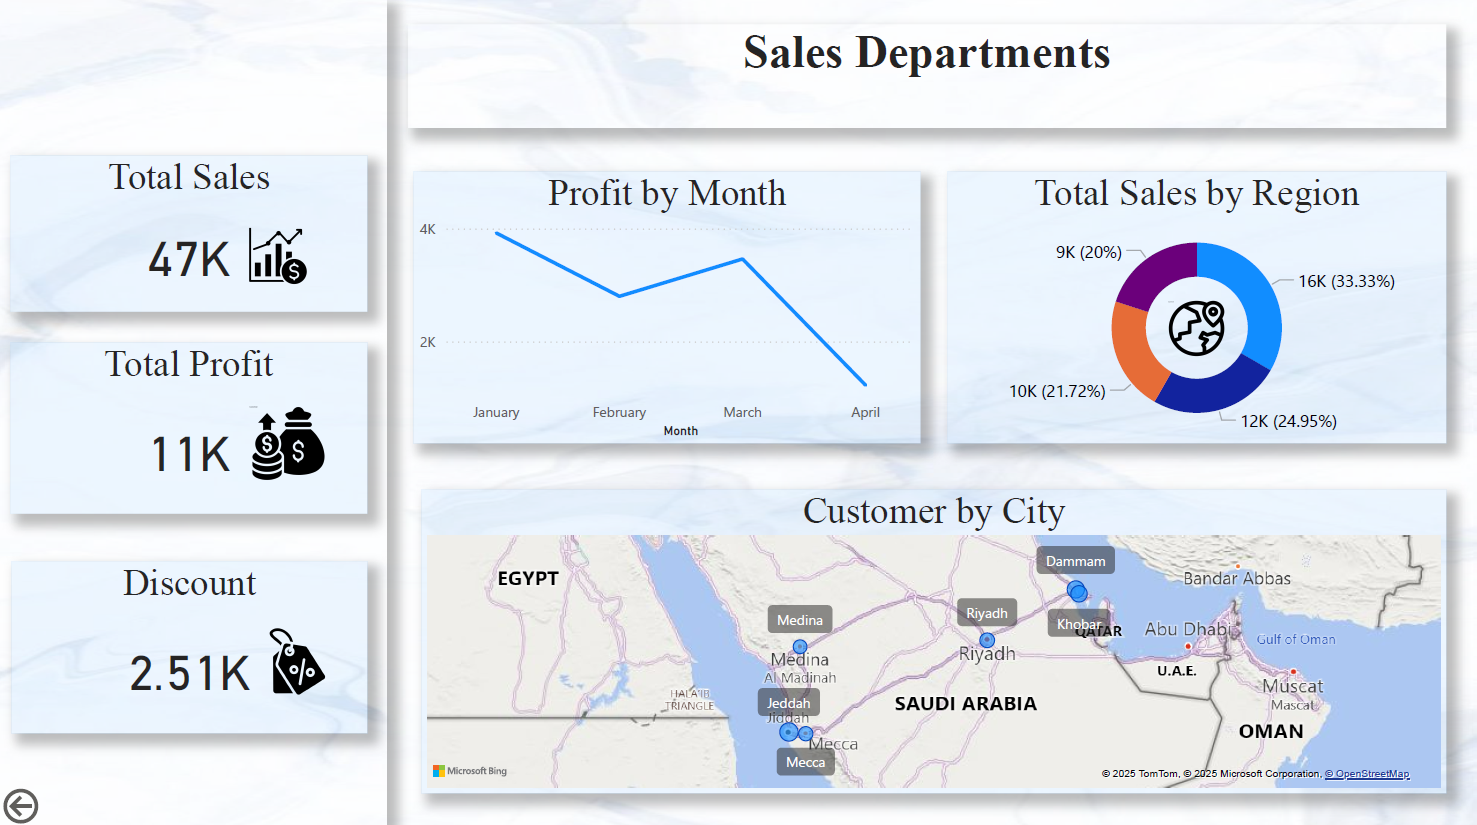

Layout of this report page (visuals, bound fields, positions):
{"tool":"powerbi","page":{"name":"Sales Departments","canvas":[1280,720],"ordinal":1},"visuals":[{"type":"shape","box":[0,0,336.6,719.7],"z":0},{"type":"card","title":"Total Sales","fields":{"Values":["Transactions.TotalSales"]},"box":[10.7,135.7,308.9,135.7],"z":1000},{"type":"image","box":[163.8,189.9,156.5,65.2],"z":2000},{"type":"card","title":"Total Profit","fields":{"Values":["Sum(Transactions.Profit)"]},"box":[10.7,298.2,308.9,148.2],"z":3000},{"type":"image","box":[196.4,344.6,171.4,80.4],"z":4000},{"type":"card","title":"Discount","fields":{"Values":["Sum(Transactions.Discount)"]},"box":[12.5,487.5,307.1,148.2],"z":5000},{"type":"image","box":[163.8,533.3,191.3,81.2],"z":6000},{"type":"lineChart","title":"Profit by Month","fields":{"Category":["Transactions.SalesDate.Variation.Date Hierarchy.Month"],"Y":["Sum(Transactions.Profit)"]},"box":[359.7,150,438.9,234.7],"z":7000},{"type":"map","title":"Customer by City","fields":{"Category":["Customers.City"],"Size":["CountNonNull(Customers.CustomerName)"]},"box":[366.7,425,887.5,262.5],"z":8000},{"type":"donutChart","title":"Total Sales by Region","fields":{"Y":["Transactions.TotalSales"],"Category":["Transactions.Region"]},"box":[822.2,150,431.9,234.7],"z":9000},{"type":"image","box":[1007.2,226.1,105.8,118.8],"z":10000},{"type":"textbox","title":"Sales Departments","box":[355.1,21.7,898.6,89.9],"z":11000},{"type":"actionButton","box":[0,679.4,100,39.7],"z":12000}]}

Visuals, with their boxes in screenshot pixels (x1, y1, x2, y2), scaled from the page's 1280x720 canvas onto the 1477x825 screenshot:
shape: [left=0, top=0, right=388, bottom=824]
"Total Sales" card: [left=12, top=155, right=369, bottom=311]
image: [left=189, top=218, right=370, bottom=292]
"Total Profit" card: [left=12, top=342, right=369, bottom=511]
image: [left=227, top=395, right=424, bottom=487]
"Discount" card: [left=14, top=559, right=369, bottom=728]
image: [left=189, top=611, right=410, bottom=704]
"Profit by Month" lineChart: [left=415, top=172, right=922, bottom=441]
"Customer by City" map: [left=423, top=487, right=1447, bottom=788]
"Total Sales by Region" donutChart: [left=949, top=172, right=1447, bottom=441]
image: [left=1162, top=259, right=1284, bottom=395]
"Sales Departments" textbox: [left=410, top=25, right=1447, bottom=128]
actionButton: [left=0, top=778, right=115, bottom=824]
